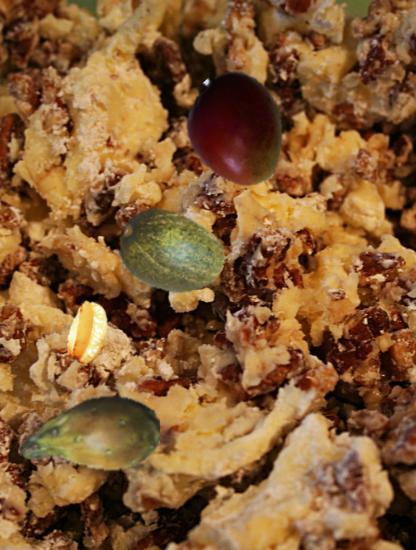Cactus: (18, 362, 160, 504)
Carambula: (57, 301, 121, 365)
Mango: (180, 71, 297, 188)
Melon: (119, 194, 227, 302)
